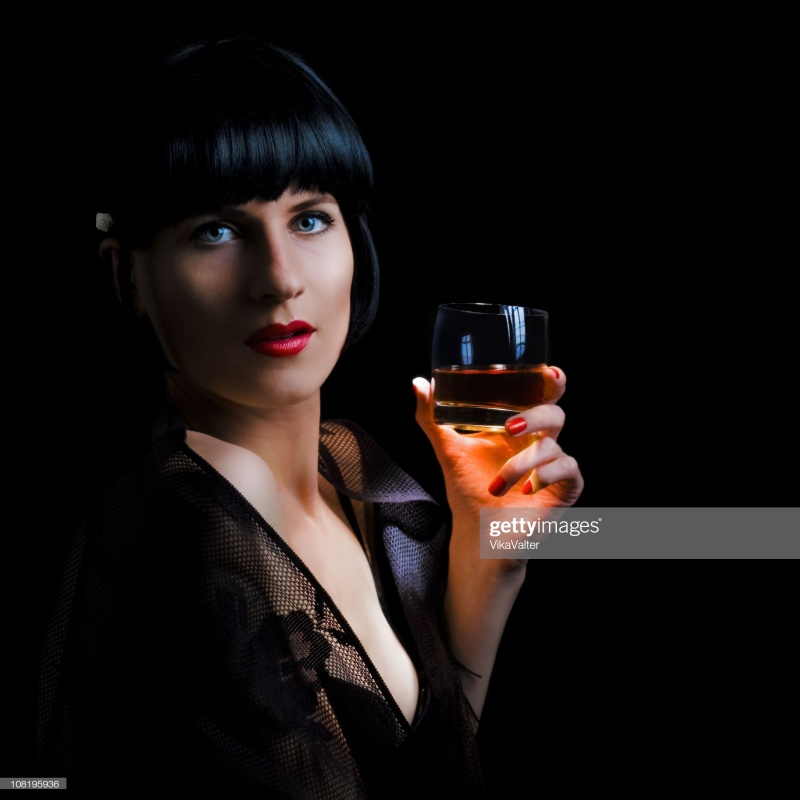whiskey: (430, 292, 555, 444)
